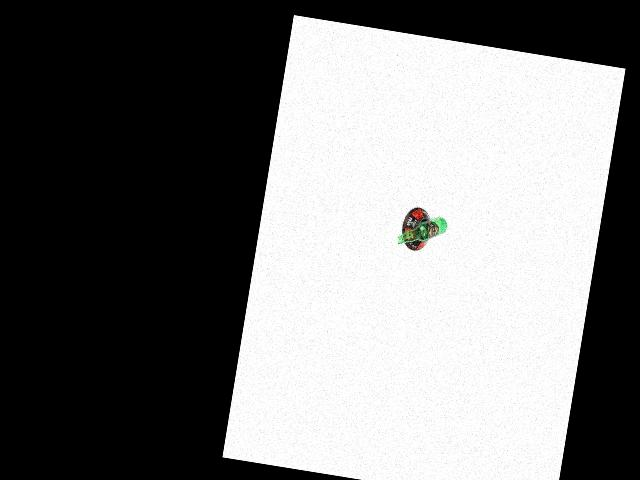beer: (395, 209, 448, 250)
